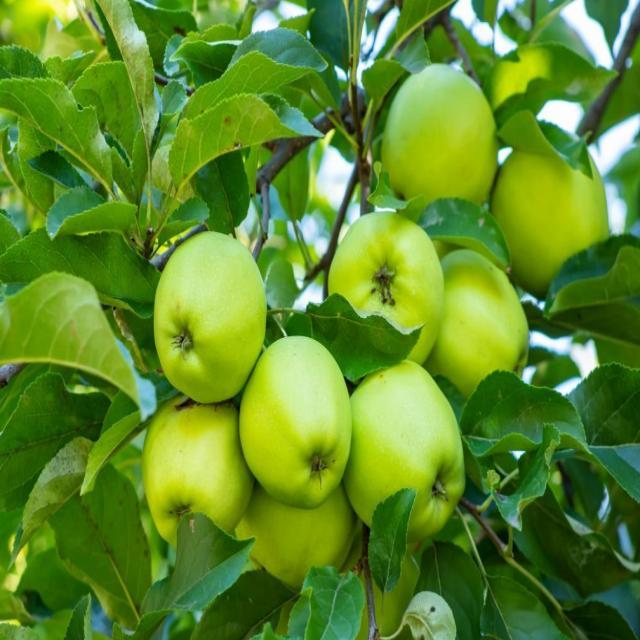Green Apple: (350, 351, 460, 538), (152, 231, 269, 398), (243, 336, 352, 499), (240, 455, 353, 597), (332, 212, 437, 360), (385, 66, 498, 203), (149, 396, 250, 546), (497, 140, 609, 275), (439, 243, 529, 404)
